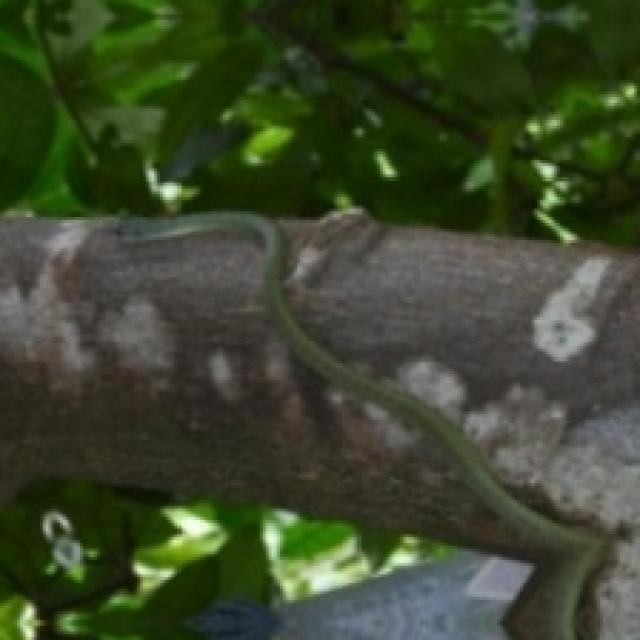paradise tree snake: (119, 212, 602, 639)
